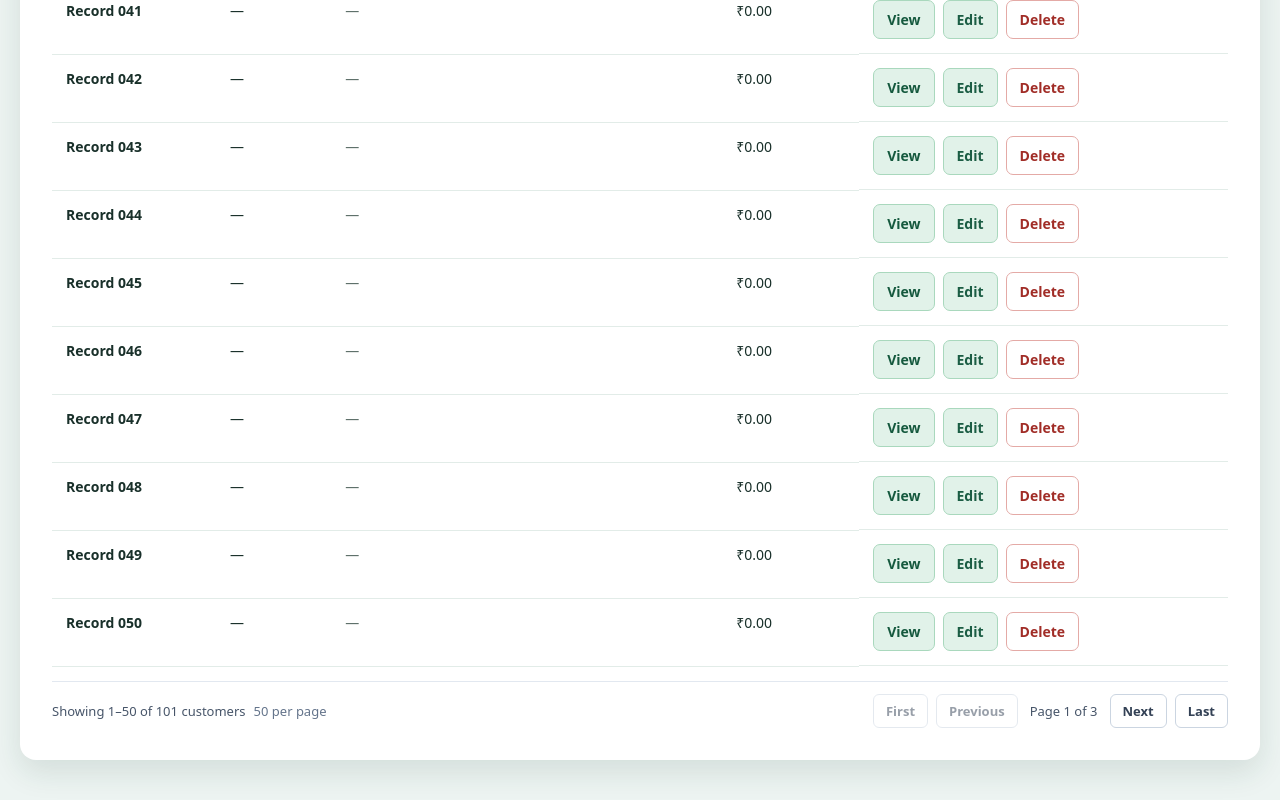
it: customers paginate by 50 and reset to the first page when searching
(page scrolled)
Expected: the text "Record 051" is not shown
Expected: the button "Previous" is disabled, x1=936 y1=694 x2=1018 y2=728
Click the button "Next" at (1138, 710), box x1=1110 y1=694 x2=1167 y2=728
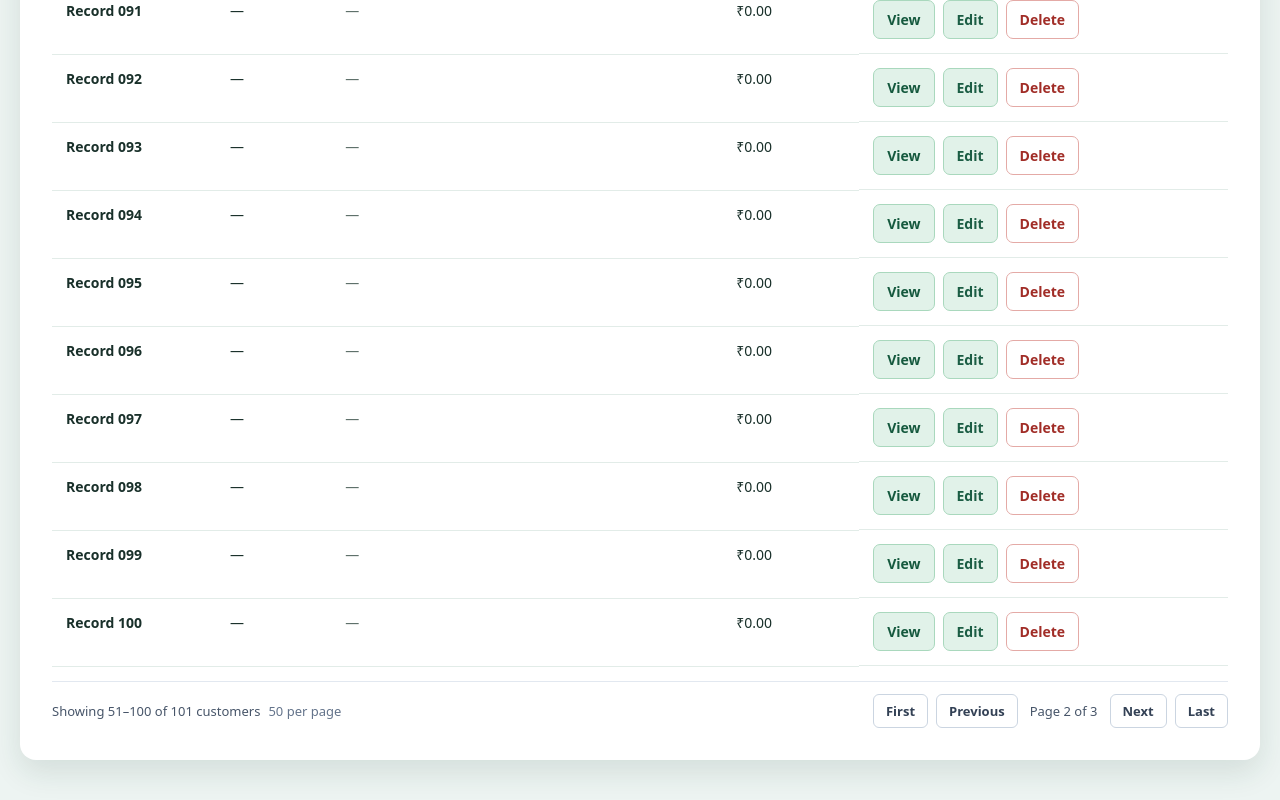
Expected: the text "Record 100" is shown, x1=52 y1=598 x2=216 y2=666
Expected: the text "Page 2 of 3" is shown, x1=1026 y1=702 x2=1102 y2=720
Click the button "Last" at (1201, 710), box x1=1175 y1=694 x2=1228 y2=728
(page scrolled)
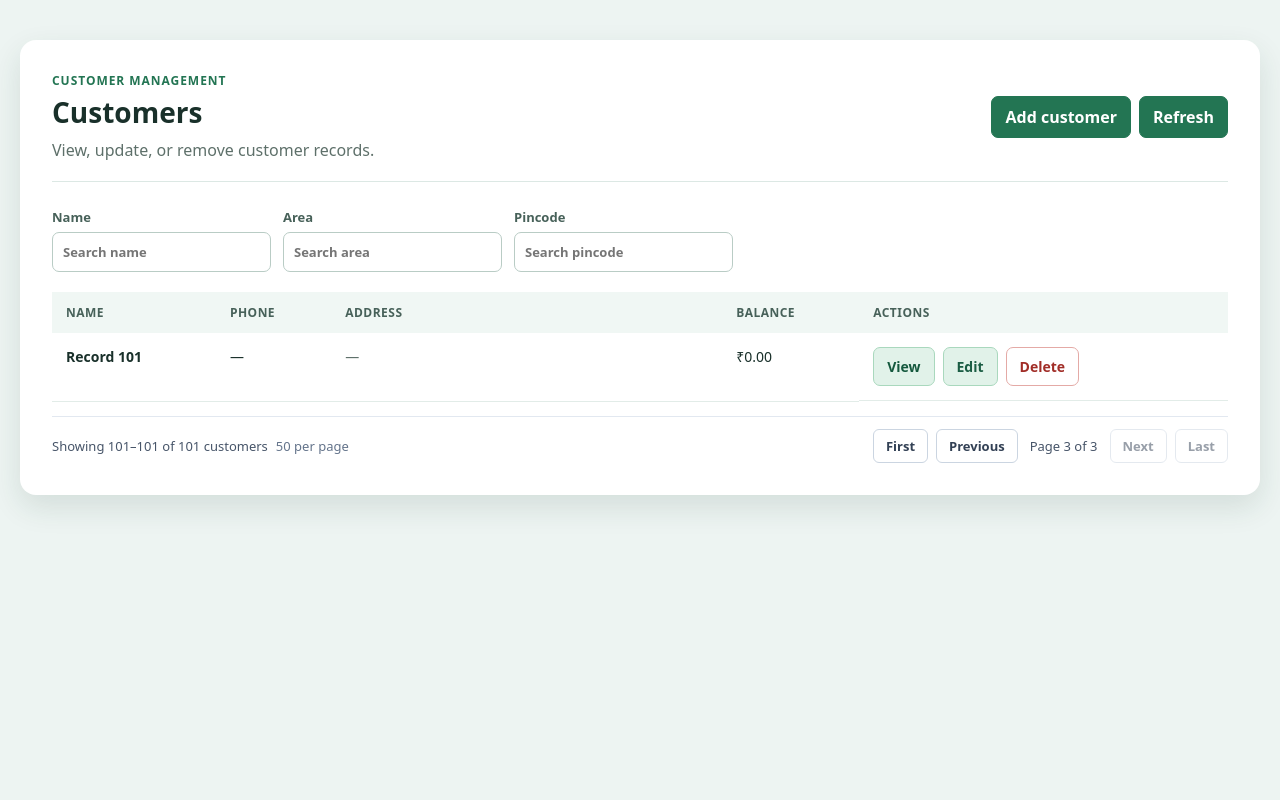
Expected: the text "Record 101" is shown, x1=52 y1=333 x2=216 y2=401
Expected: the number of rows is 2, x1=52 y1=292 x2=1228 y2=333; x1=52 y1=333 x2=1228 y2=401
Expected: the button "Next" is disabled, x1=1110 y1=428 x2=1167 y2=462
Click the button "Previous" at (977, 446), box x1=936 y1=428 x2=1018 y2=462
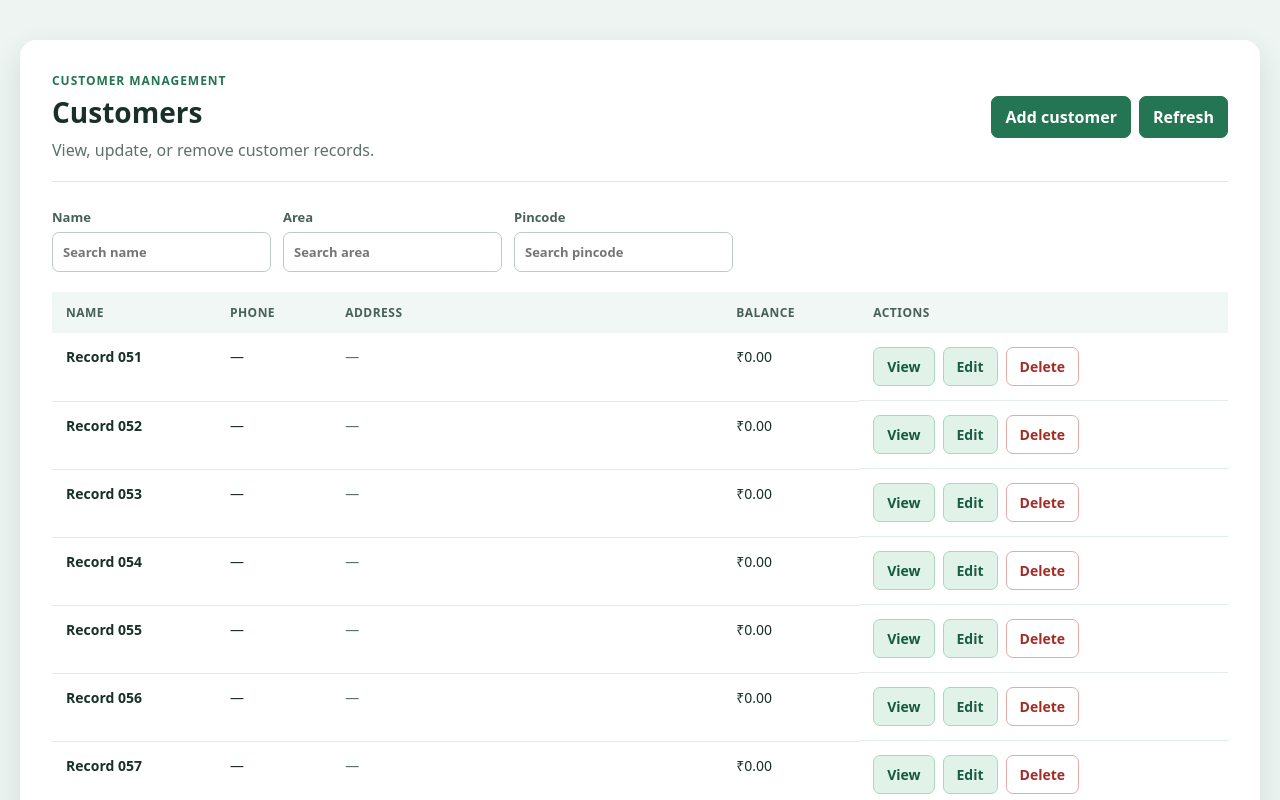
Type "Record 0" into the search field labelled "Name" at (162, 252), box x1=52 y1=232 x2=271 y2=272
(page scrolled)
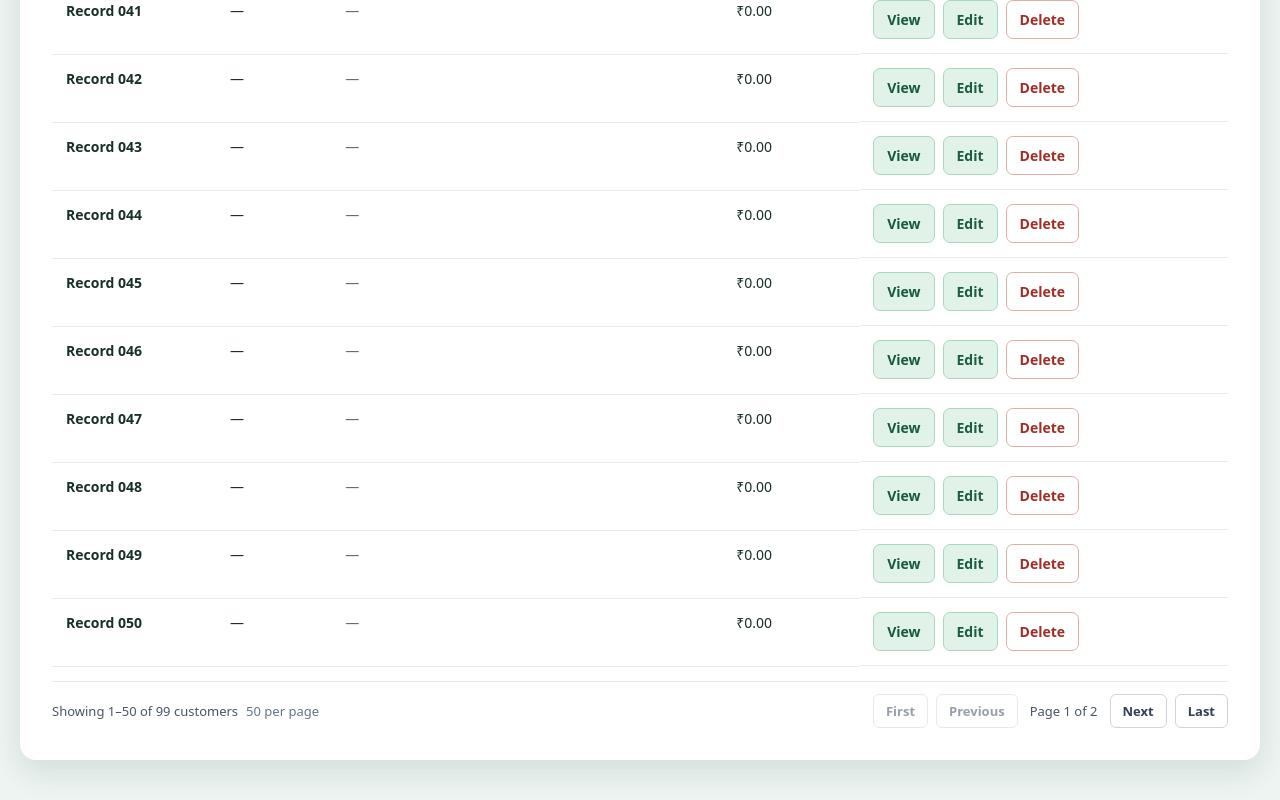
Expected: the text "Page 1 of 2" is shown, x1=1026 y1=702 x2=1102 y2=720
